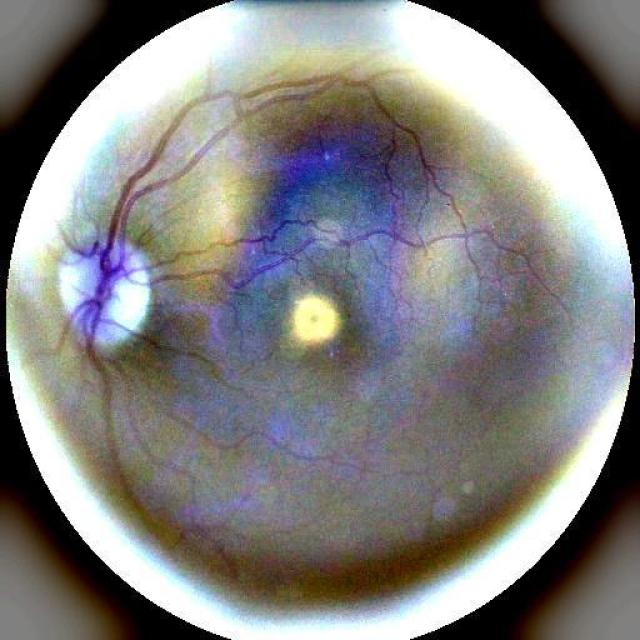Macula: (301, 278, 377, 376)
Nerves: (72, 70, 479, 558)
Optic Disk: (43, 203, 173, 374)
